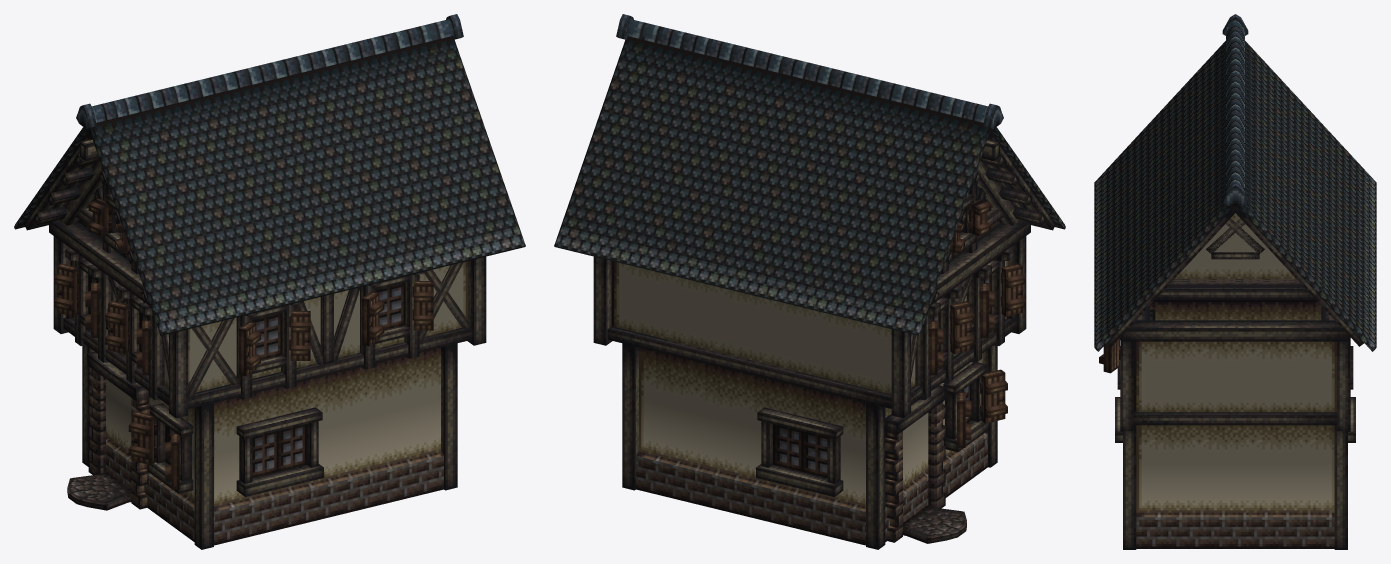
File: EnvBdgMD_Mount_A_Outdoor_Shop_Item.FBX
The picture shows the model from 3 angles, left to right: view 1: azimuth 30°, elevation 25°; view 2: azimuth 150°, elevation 25°; view 3: azimuth 270°, elevation 25°; orthographic projection. The views are drawn at different scales.
Visible parts, largest first — view 1: EnvBdgMD_Mount_A_Outdoor_Shop_Item; view 2: EnvBdgMD_Mount_A_Outdoor_Shop_Item; view 3: EnvBdgMD_Mount_A_Outdoor_Shop_Item.
Part boxes in pixels (<box>): EnvBdgMD_Mount_A_Outdoor_Shop_Item: <box>14,14,525,549</box>; EnvBdgMD_Mount_A_Outdoor_Shop_Item: <box>554,14,1065,549</box>; EnvBdgMD_Mount_A_Outdoor_Shop_Item: <box>1094,14,1376,549</box>.
Size of the model in its own units: 760 by 806 by 527.
Materials: 1 (1 with a texture image).
